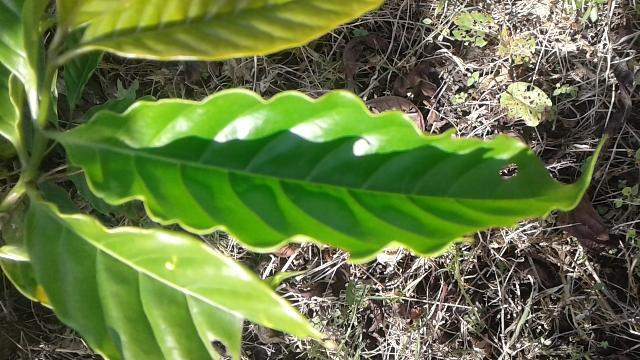healthy: (58, 84, 612, 266)
